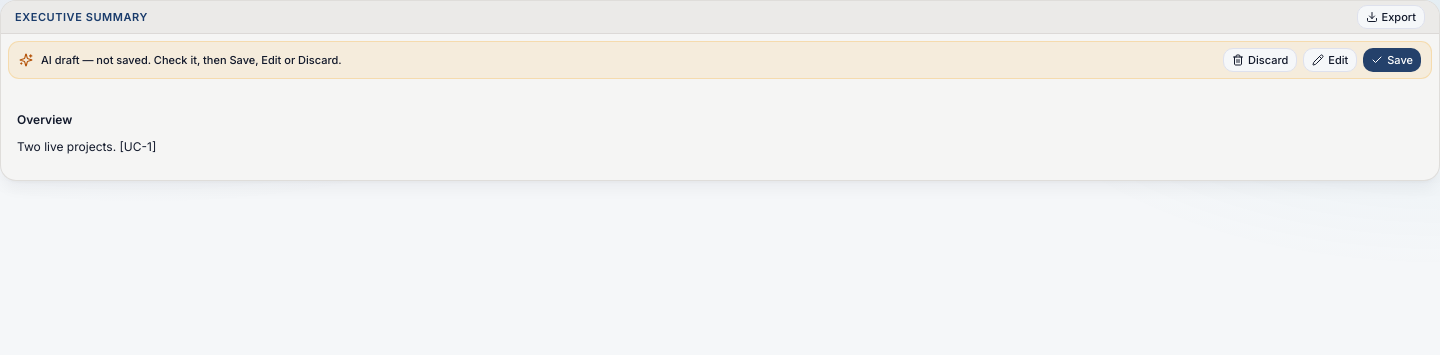
Test: summary dialog with AI › AIB-HUMAN-003 Cancel on the edited draft returns to the stored summary and writes nothing
Click the button "Edit". click: (1330,60)
box: [1303,48,1357,72]
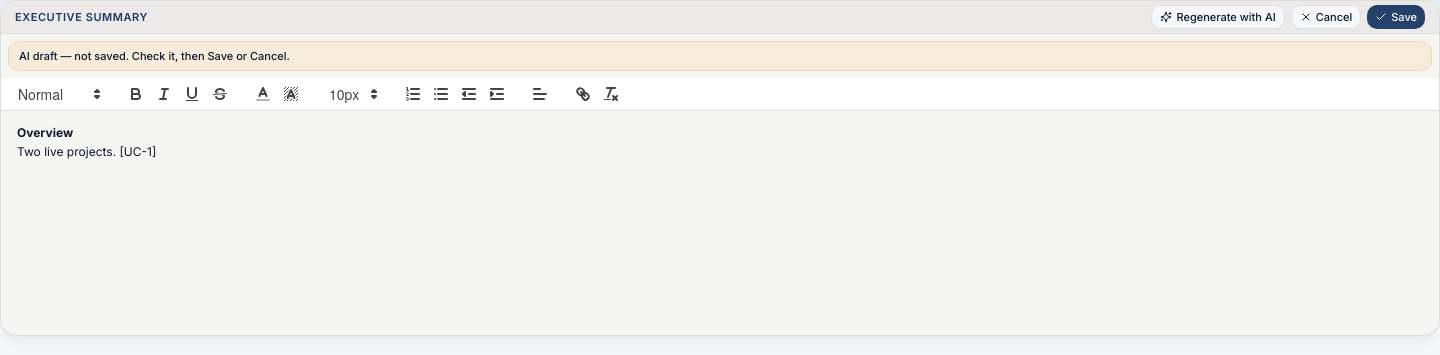
Click the button "Cancel". click: (1326,17)
box: [1291,5,1361,29]
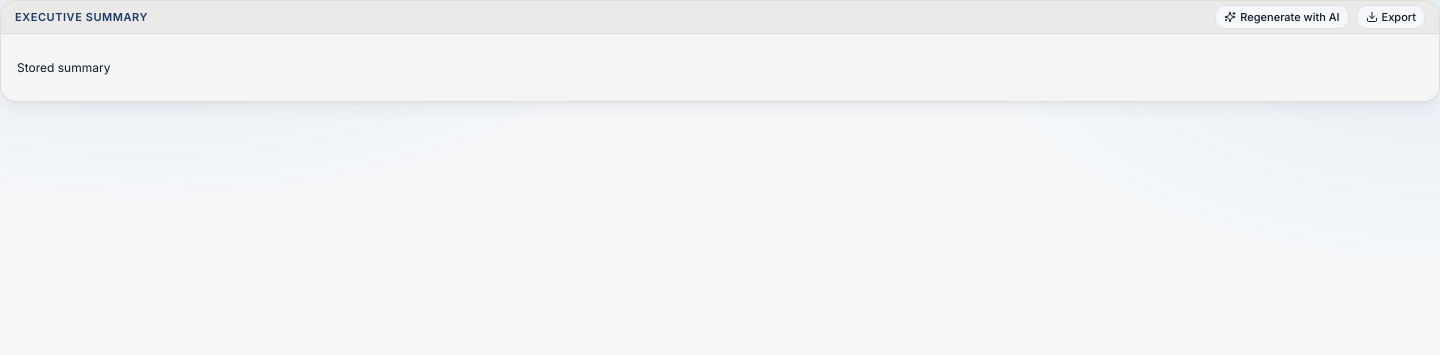
expect the text "Stored summary" is shown: met, box [17,60,110,75]
